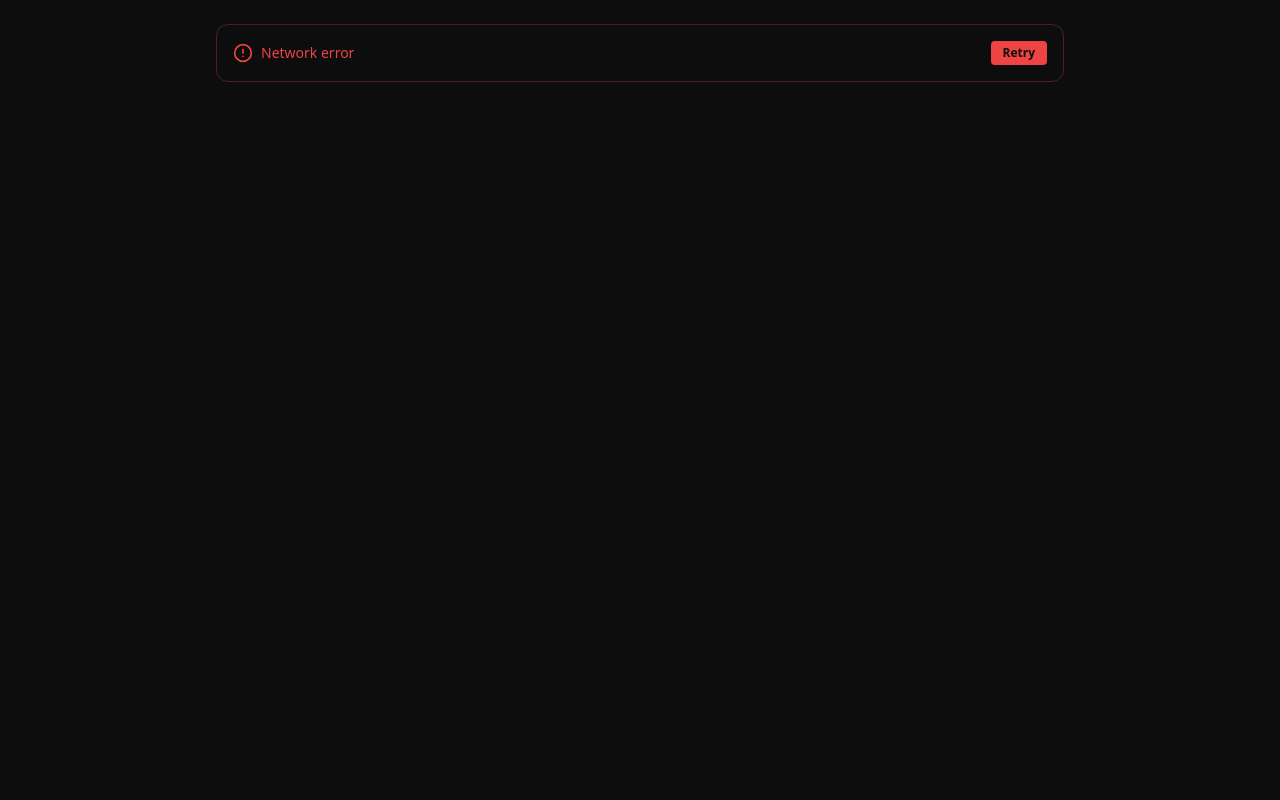
Scenario: RevisionPage › 6 Overview error shows retry banner and recovers on retry
This screenshot has width=1280, height=800.
Expected: the element with test id "revision-error" is shown, [216,24,1064,82]
Expected: the text "Network error" is shown, [261,43,354,63]
Click the button "Retry" at [1019, 53], box [990,41,1047,65]
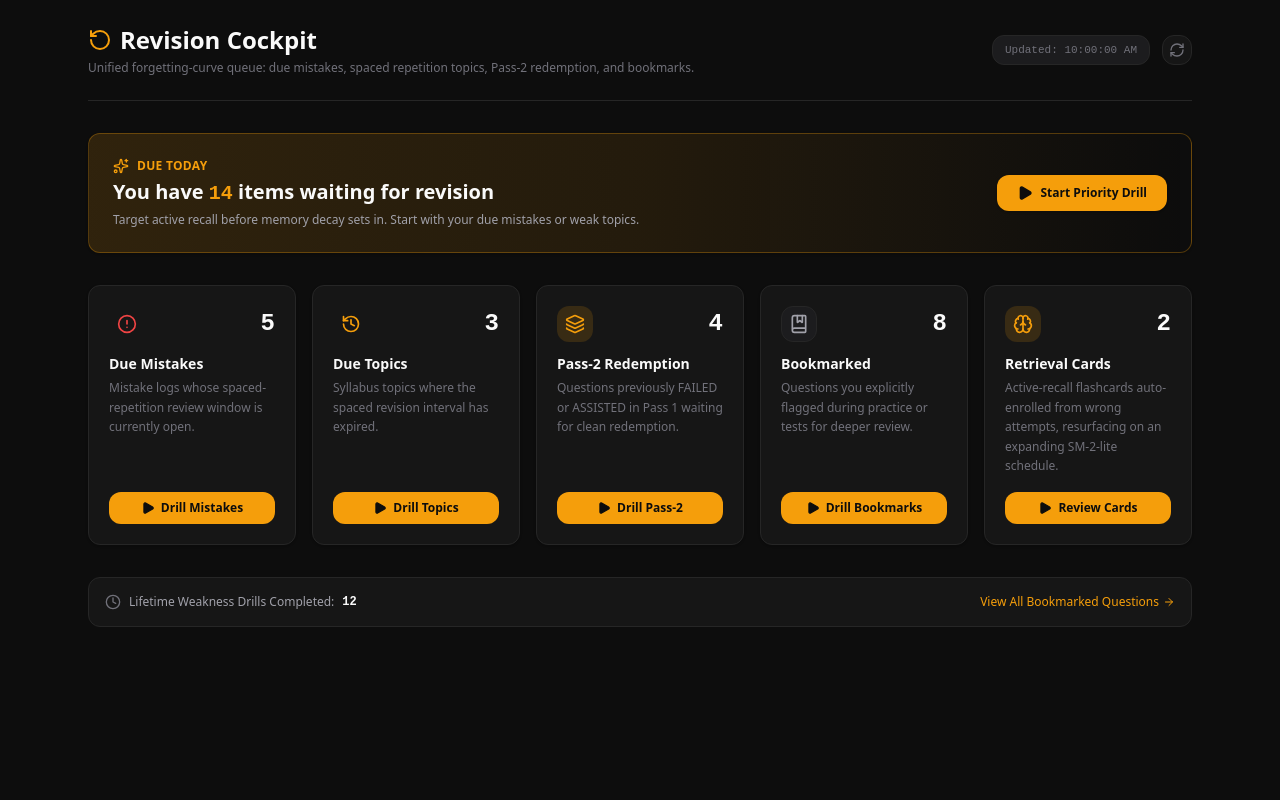
Now the element with test id "revision-page" is shown
